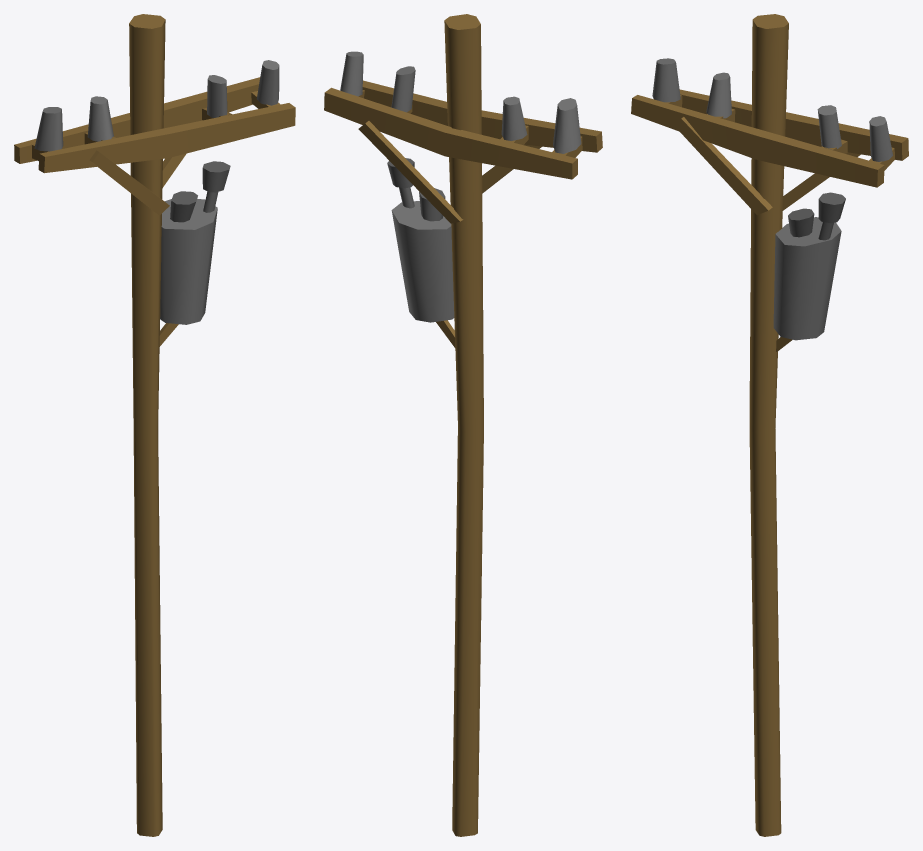
The model's file is electric pole.fbx.
3 views of the same model, side by side, from view 1: azimuth 30°, elevation 25°; view 2: azimuth 150°, elevation 25°; view 3: azimuth 330°, elevation 25° (orthographic).
Parts seen in each view (by area): view 1: pole-LOD0; view 2: pole-LOD0; view 3: pole-LOD0.
Part boxes in pixels (<box>): pole-LOD0: <box>14,14,295,836</box>; pole-LOD0: <box>324,14,602,836</box>; pole-LOD0: <box>631,14,908,836</box>.
Size of what is drawn, in the model's own units: 5.25 by 16.28 by 1.42.
